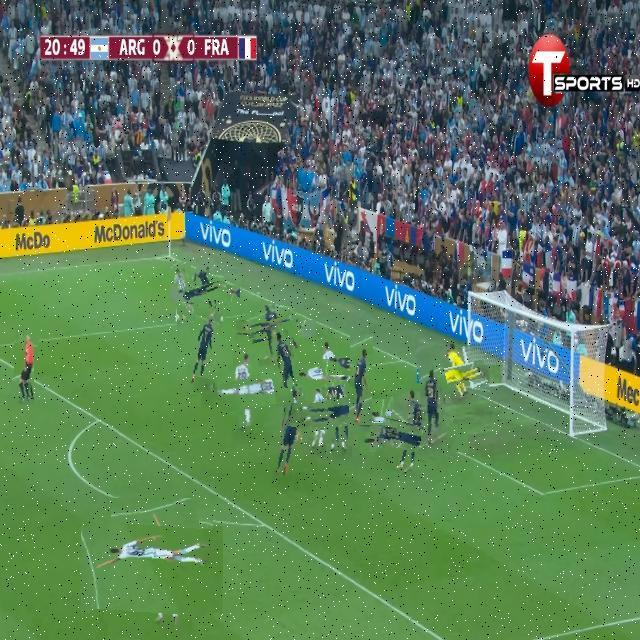ball: (186, 313, 198, 326)
goalkeeper: (432, 346, 488, 403)
player: (93, 510, 212, 628), (377, 401, 452, 476), (215, 360, 283, 428), (308, 380, 372, 444), (419, 344, 448, 470), (275, 388, 308, 491), (186, 308, 223, 395), (247, 302, 303, 357), (349, 335, 373, 447), (271, 324, 302, 408), (303, 346, 354, 397), (295, 391, 345, 441), (182, 269, 230, 318), (174, 262, 195, 325)
referee: (11, 326, 38, 414)
